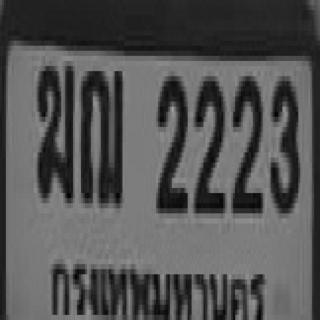A06: (36, 61, 73, 198)
A12: (79, 66, 122, 203)
N02: (229, 71, 261, 208), (154, 71, 186, 208), (192, 71, 223, 208)
N03: (269, 71, 298, 208)
P04: (45, 252, 270, 320)
